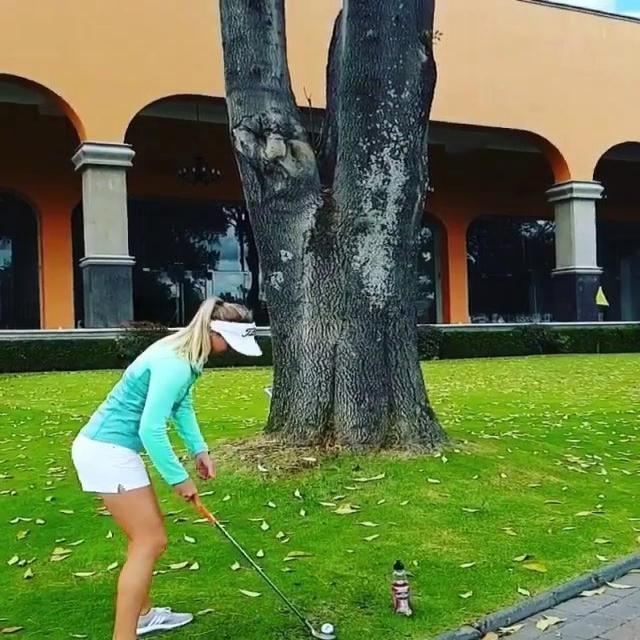golf ball: (319, 623, 335, 634)
golf club-handle: (187, 492, 340, 640)
golf club-head: (312, 631, 337, 639)
